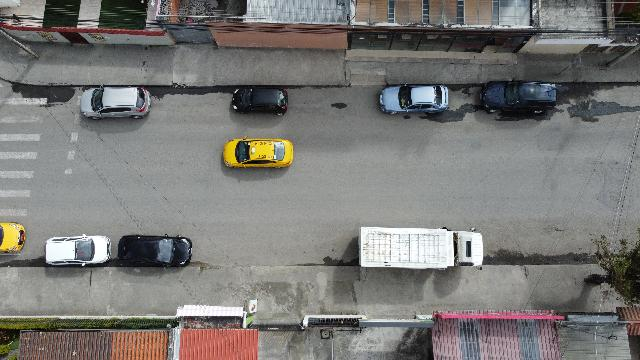Vehiculo: (117, 233, 195, 268), (481, 80, 557, 114), (80, 86, 150, 120), (223, 136, 293, 168), (45, 234, 111, 266), (379, 84, 448, 114), (232, 87, 288, 115), (1, 222, 26, 253)
